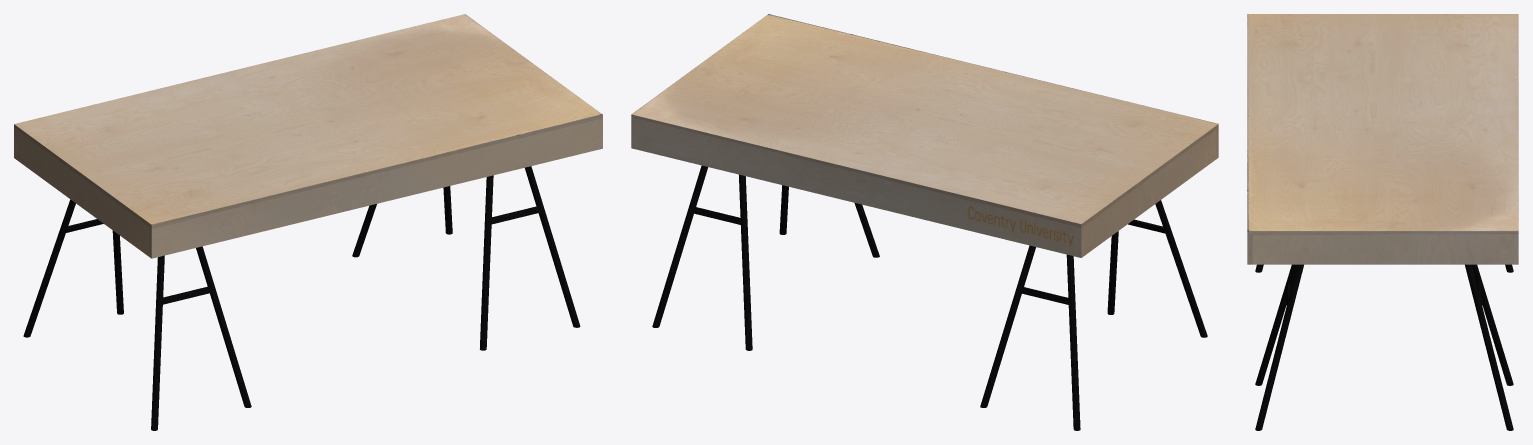
The model's file is Degree-Show-Table.glb.
The picture shows the model from 3 angles, left to right: view 1: azimuth 30°, elevation 25°; view 2: azimuth 150°, elevation 25°; view 3: azimuth 270°, elevation 25°; orthographic projection.
Parts seen in each view (by area): view 1: Cube_001; view 2: Cube_001; view 3: Cube_001.
Part boxes in pixels (x1,y1,x2,y2): Cube_001: [14, 14, 602, 430]; Cube_001: [631, 14, 1218, 430]; Cube_001: [1247, 14, 1518, 430].
Size of the model in its own units: 1.99 by 0.8876 by 1.05.
2 materials, 2 textured.
